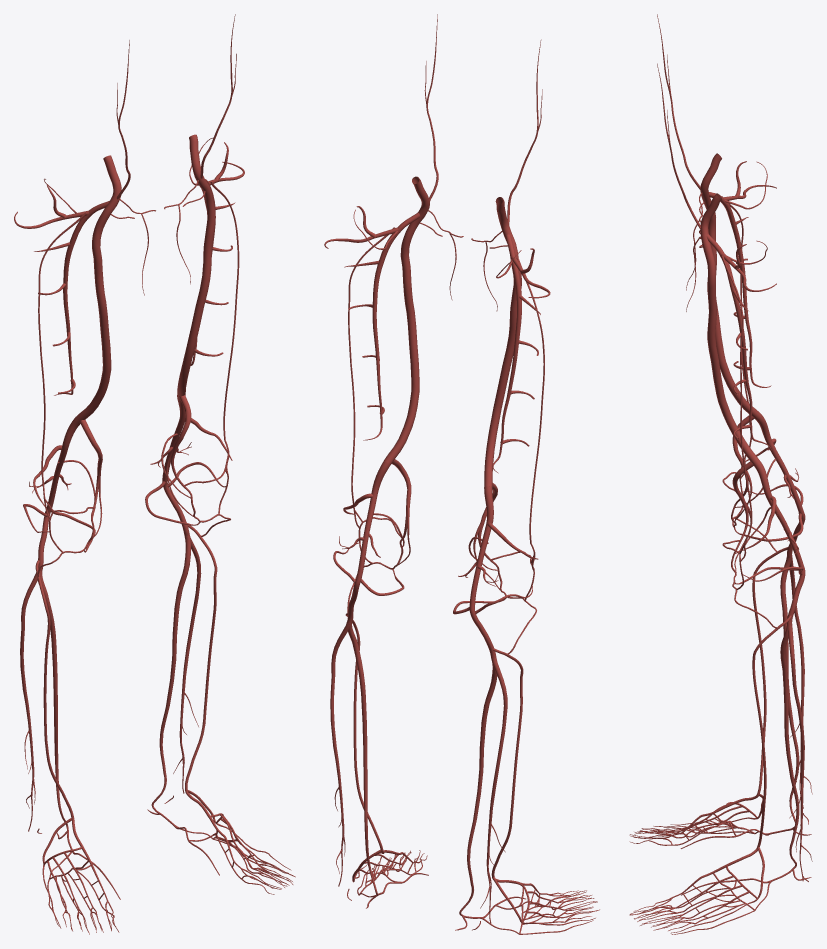
Rendered from arterial-lower-limb-mobile.glb.
The picture shows the model from 3 angles, left to right: view 1: azimuth 30°, elevation 25°; view 2: azimuth 150°, elevation 25°; view 3: azimuth 270°, elevation 25°; orthographic projection. The views are drawn at different scales.
Parts seen in each view (by area): view 1: za.femoral-artery-r, za.femoral-artery-l, za.posterior-tibial-artery-l, za.posterior-tibial-artery-r, za.fibular-artery-r, za.fibular-artery-l, za.popliteal-artery-r, za.deep-femoral-artery-r, za.anterior-tibial-artery-l, za.anterior-tibial-artery-r, za.superior-medial-genicular-artery-l, za.popliteal-artery-l (+3 smaller); view 2: za.femoral-artery-l, za.femoral-artery-r, za.posterior-tibial-artery-l, za.posterior-tibial-artery-r, za.popliteal-artery-r, za.fibular-artery-l, za.fibular-artery-r, za.deep-femoral-artery-l, za.popliteal-artery-l, za.deep-femoral-artery-r, za.anterior-tibial-artery-r, za.anterior-tibial-artery-l (+3 smaller); view 3: za.femoral-artery-l, za.femoral-artery-r, za.posterior-tibial-artery-l, za.posterior-tibial-artery-r, za.fibular-artery-l, za.popliteal-artery-l, za.deep-femoral-artery-l, za.deep-femoral-artery-r, za.popliteal-artery-r, za.anterior-tibial-artery-l, za.anterior-tibial-artery-r, za.fibular-artery-r (+11 smaller).
Part boxes in pixels (<box>): za.femoral-artery-r: <box>74,155,121,423</box>; za.femoral-artery-l: <box>177,134,215,398</box>; za.posterior-tibial-artery-l: <box>151,534,191,824</box>; za.posterior-tibial-artery-r: <box>37,571,72,848</box>; za.fibular-artery-r: <box>20,572,37,831</box>; za.fibular-artery-l: <box>173,537,201,793</box>; za.popliteal-artery-r: <box>38,418,79,571</box>; za.deep-femoral-artery-r: <box>54,200,109,395</box>; za.anterior-tibial-artery-l: <box>185,525,217,790</box>; za.anterior-tibial-artery-r: <box>35,560,73,818</box>; za.superior-medial-genicular-artery-l: <box>161,395,193,516</box>; za.popliteal-artery-l: <box>162,395,189,535</box>; za.femoral-artery-l: <box>384,176,429,464</box>; za.femoral-artery-r: <box>484,197,521,487</box>; za.posterior-tibial-artery-l: <box>347,622,381,895</box>; za.posterior-tibial-artery-r: <box>459,658,497,918</box>; za.popliteal-artery-r: <box>469,486,496,658</box>; za.fibular-artery-l: <box>330,622,350,886</box>; za.fibular-artery-r: <box>480,657,507,923</box>; za.deep-femoral-artery-l: <box>363,212,419,440</box>; za.popliteal-artery-l: <box>347,461,390,623</box>; za.deep-femoral-artery-r: <box>492,234,521,473</box>; za.anterior-tibial-artery-r: <box>491,648,523,877</box>; za.anterior-tibial-artery-l: <box>345,613,383,850</box>; za.femoral-artery-l: <box>700,193,761,466</box>; za.femoral-artery-r: <box>700,153,761,419</box>; za.posterior-tibial-artery-l: <box>772,625,799,881</box>; za.posterior-tibial-artery-r: <box>772,557,799,833</box>; za.fibular-artery-l: <box>788,625,812,881</box>; za.popliteal-artery-l: <box>755,462,805,625</box>; za.deep-femoral-artery-l: <box>706,234,771,450</box>; za.deep-femoral-artery-r: <box>709,192,771,387</box>; za.popliteal-artery-r: <box>756,414,805,557</box>; za.anterior-tibial-artery-l: <box>752,615,791,847</box>; za.anterior-tibial-artery-r: <box>752,547,788,794</box>; za.fibular-artery-r: <box>789,556,812,808</box>.
Bounding box in the file's own units: 0.2927 × 1.06 × 0.2087.
